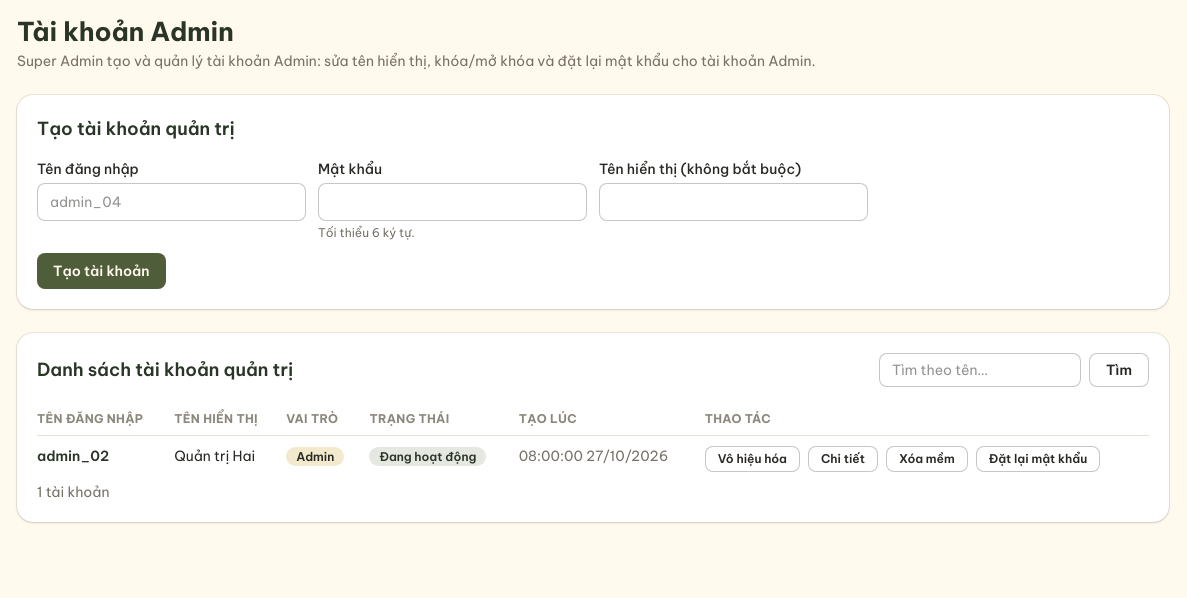
Test: AdminAccountsPage (UC10 – Super Admin quản lý tài khoản Admin) › resets a password
Click the button "Đặt lại mật khẩu": (1038, 459) [976,446,1100,472]
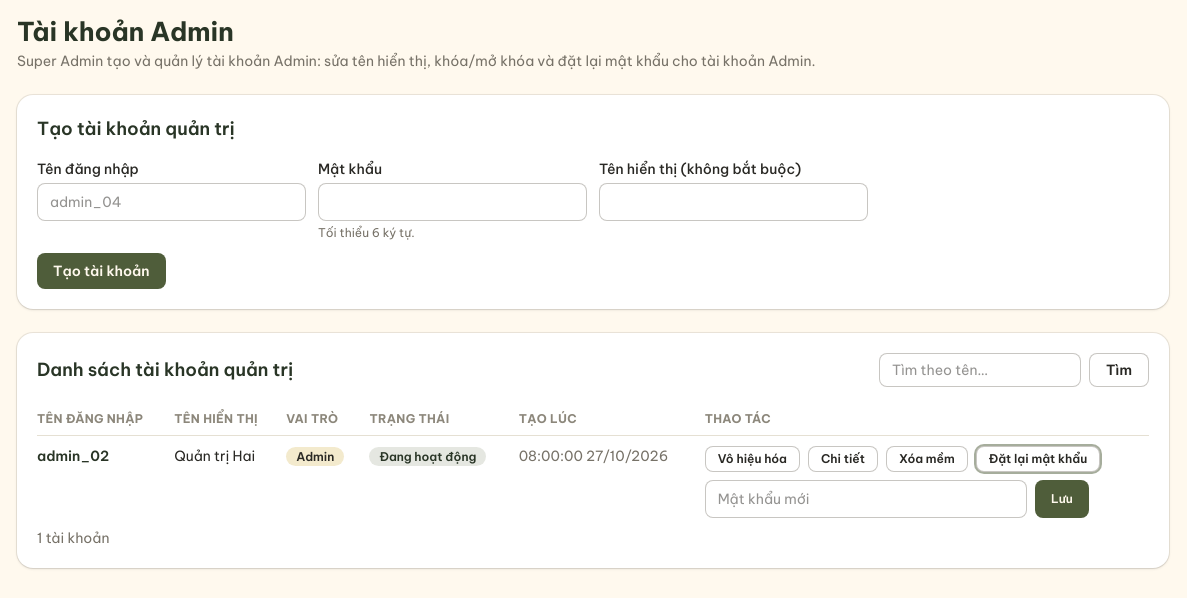
In the password field named "Mật khẩu mới cho admin_02": (866, 499) [705,480,1027,518], type "new-pass-9"
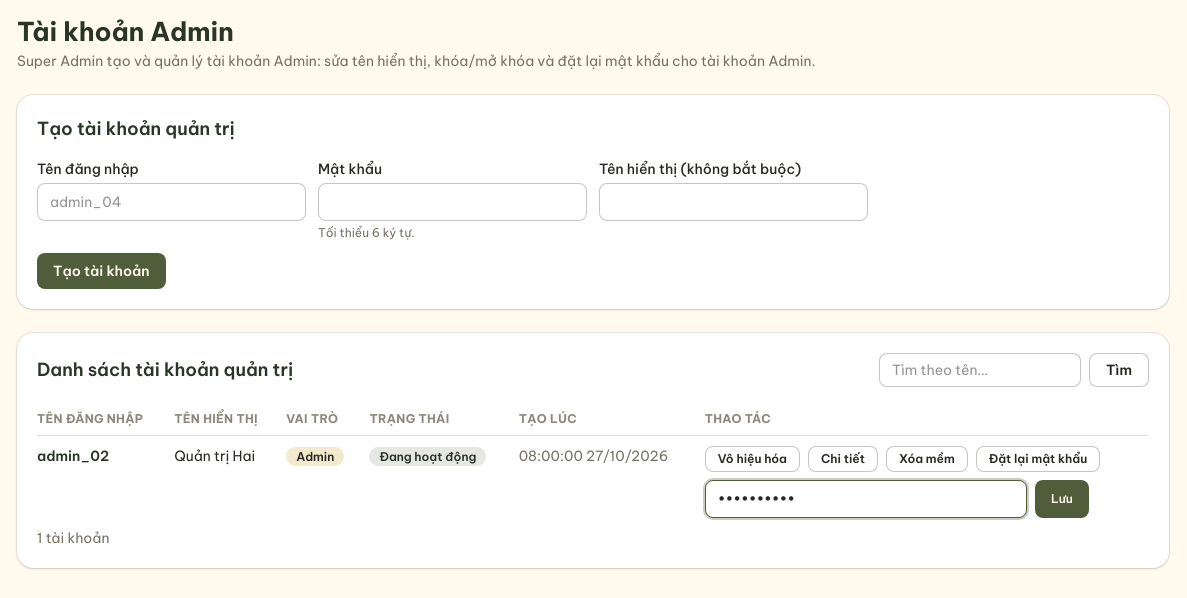
Click the button "Lưu": (1062, 499) [1035,480,1089,518]
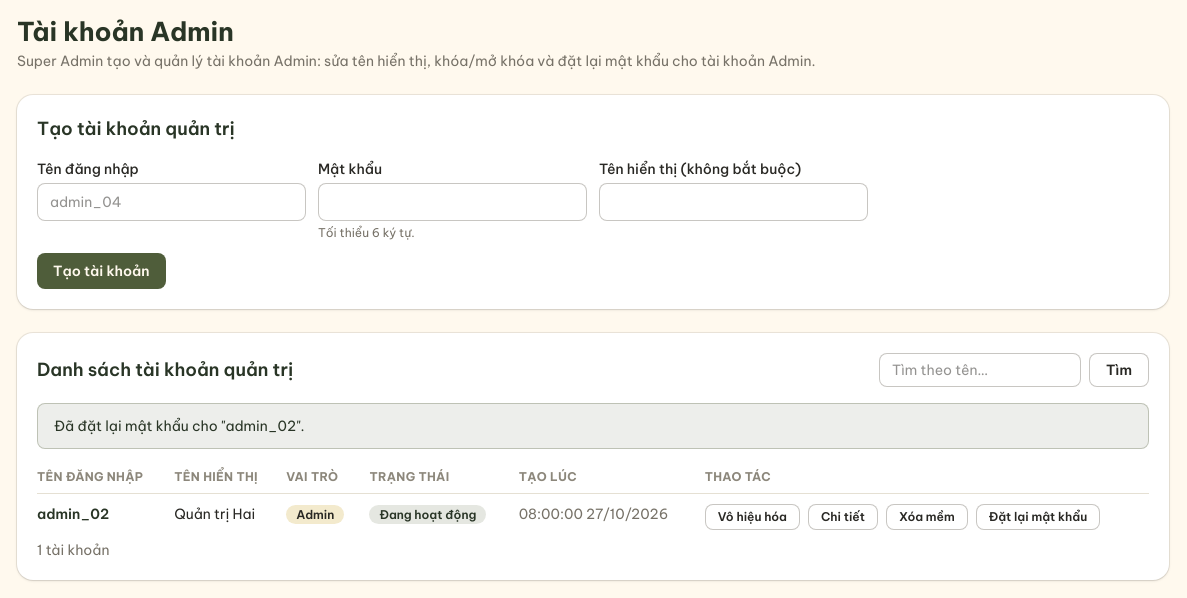
Check: the text "Đã đặt lại mật khẩu cho \"admin_02\"." is shown, box [54,417,305,435]
